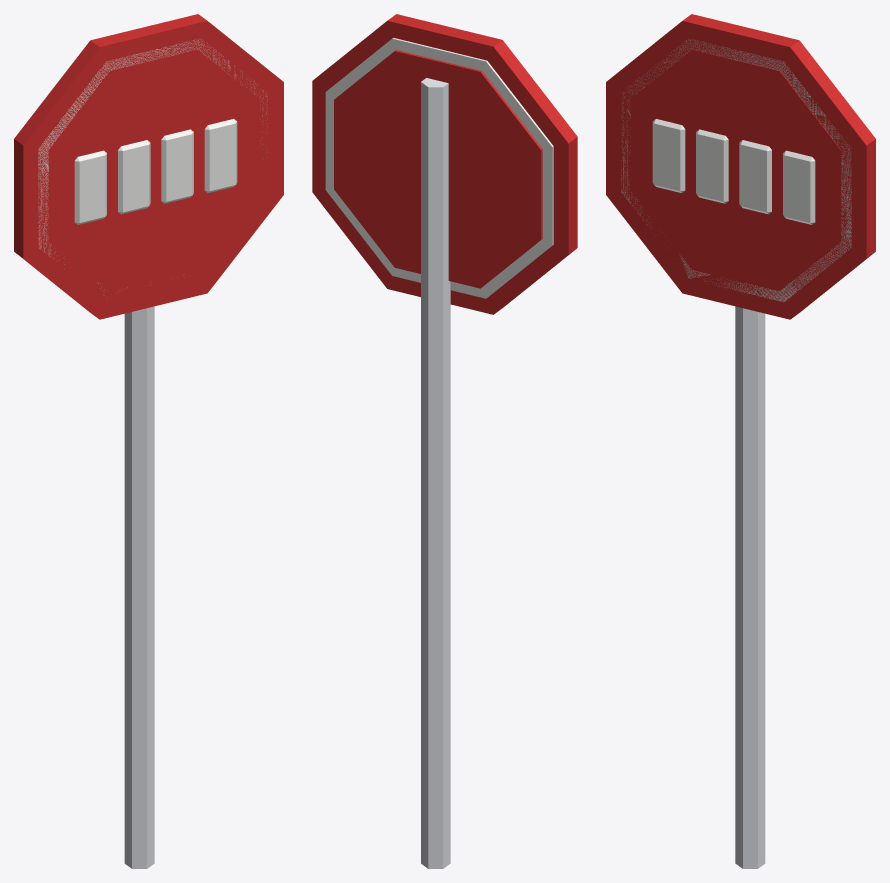
Rendered from StopSign.fbx.
3 renders of one model, left to right at view 1: azimuth 30°, elevation 25°; view 2: azimuth 150°, elevation 25°; view 3: azimuth 330°, elevation 25°, orthographic.
Parts seen in each view (by area): view 1: StopSign; view 2: StopSign; view 3: StopSign.
Boxes of the visible parts, x1=… form: StopSign: x1=14, y1=14, x2=283, y2=868; StopSign: x1=312, y1=14, x2=577, y2=868; StopSign: x1=606, y1=14, x2=875, y2=868.
Bounding box in the file's own units: 2.4 × 7.4 × 0.41.
1 material, 1 textured.
